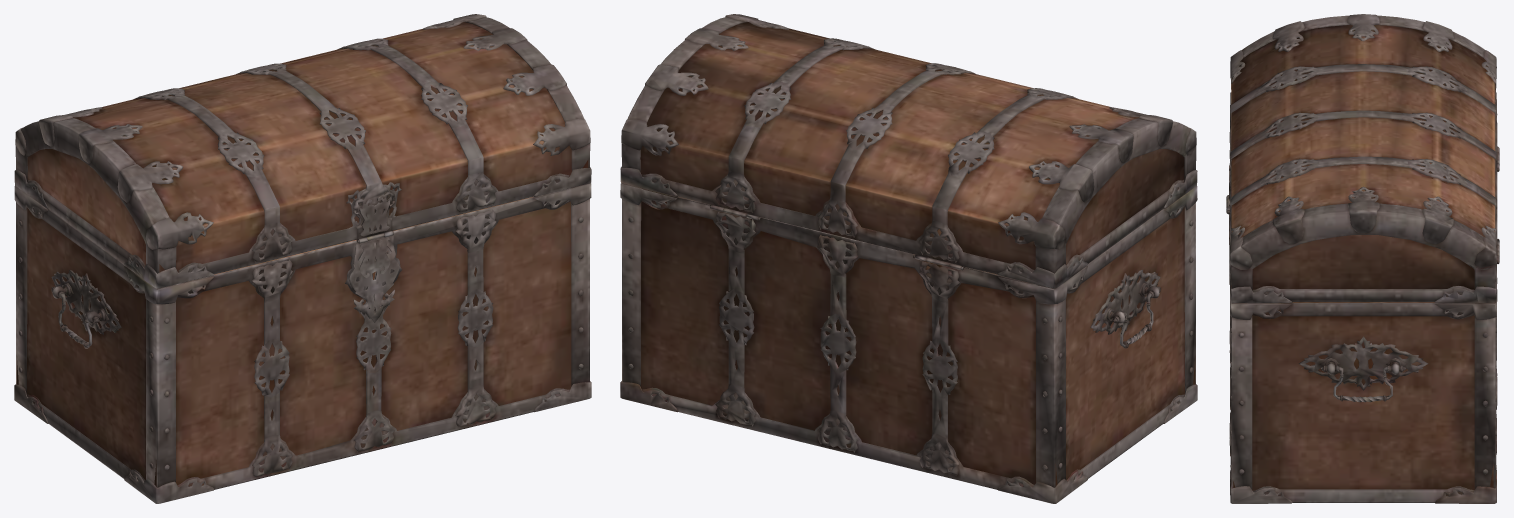
Rendered from treasure_chest.glb.
3 views of the same model, side by side, from view 1: azimuth 30°, elevation 25°; view 2: azimuth 150°, elevation 25°; view 3: azimuth 270°, elevation 25° (orthographic). The views are drawn at different scales.
Parts seen in each view (by area): view 1: treasure_chest_bottom, treasure_chest_lid, treasure_chest_lock; view 2: treasure_chest_bottom, treasure_chest_lid; view 3: treasure_chest_lid, treasure_chest_bottom, treasure_chest_handle_right.
Boxes of the visible parts, left/top/right/bottom form: treasure_chest_bottom: left=14, top=183, right=591, bottom=503; treasure_chest_lid: left=14, top=14, right=591, bottom=288; treasure_chest_lock: left=349, top=233, right=399, bottom=322; treasure_chest_bottom: left=620, top=183, right=1197, bottom=503; treasure_chest_lid: left=620, top=14, right=1197, bottom=288; treasure_chest_lid: left=1226, top=14, right=1499, bottom=303; treasure_chest_bottom: left=1229, top=152, right=1499, bottom=503; treasure_chest_handle_right: left=1320, top=365, right=1406, bottom=402.
Size of the model in its own units: 0.959 by 0.6188 by 0.5223.
Materials: 1 (1 with a texture image).
